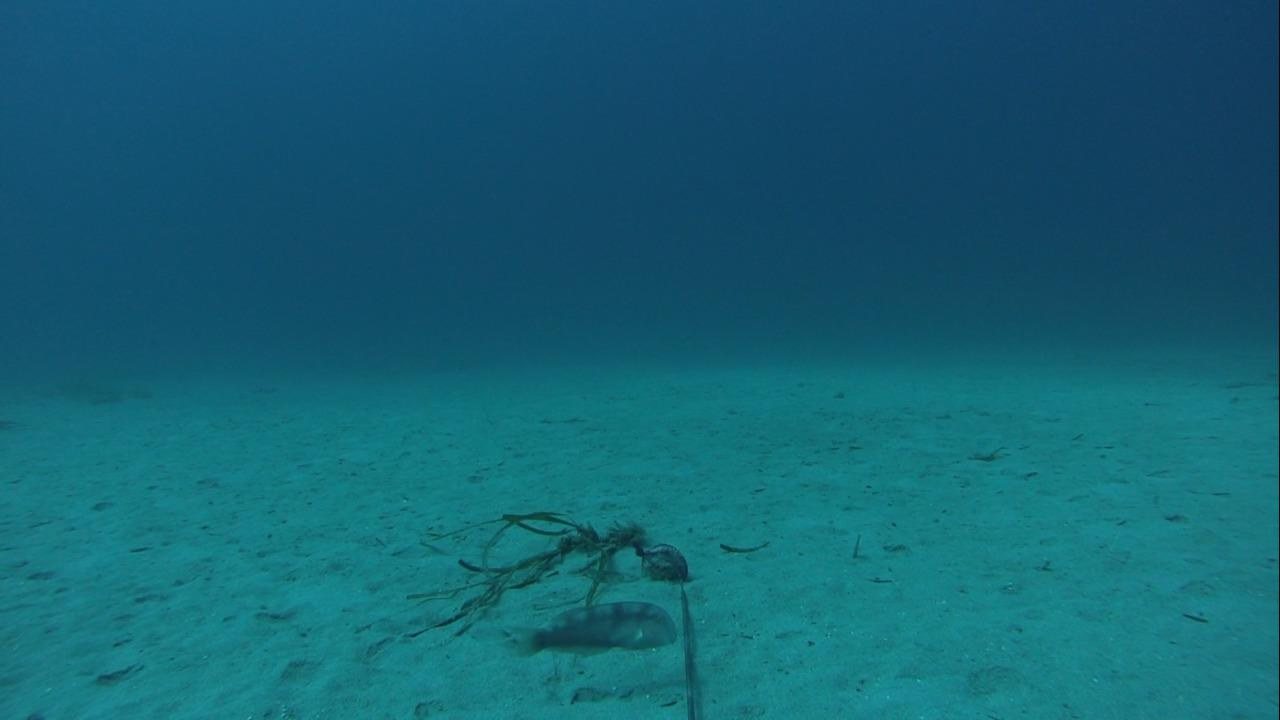raor: (502, 598, 681, 658)
